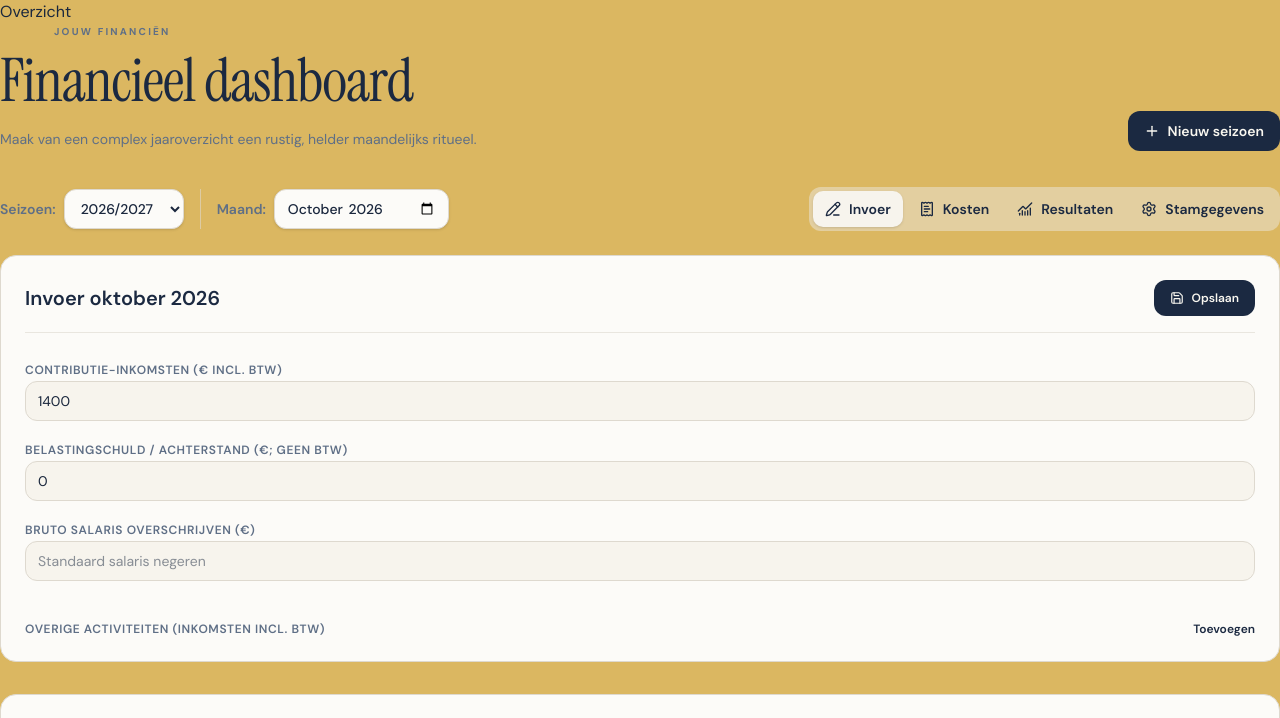
Test: bescherming van niet-opgeslagen financiële maandinvoer › laat bij wisselen naar een leeg seizoen geen maand of resultaatcijfers van het vorige seizoen staan
Step 1. Select "2025/2026" in the dropdown with test id "select-season" → (124, 209), box x1=64 y1=189 x2=184 y2=229
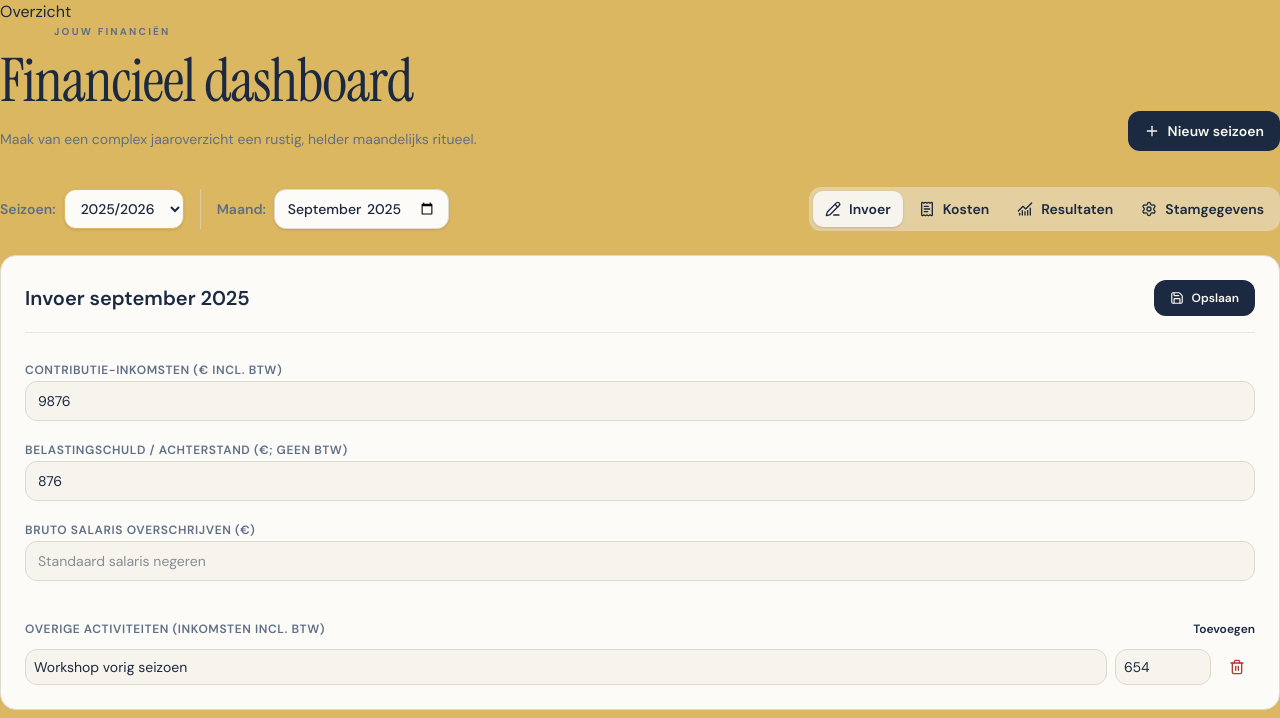
Step 2. Click the button with test id "tab-results" → (1065, 209), box x1=1005 y1=191 x2=1125 y2=227
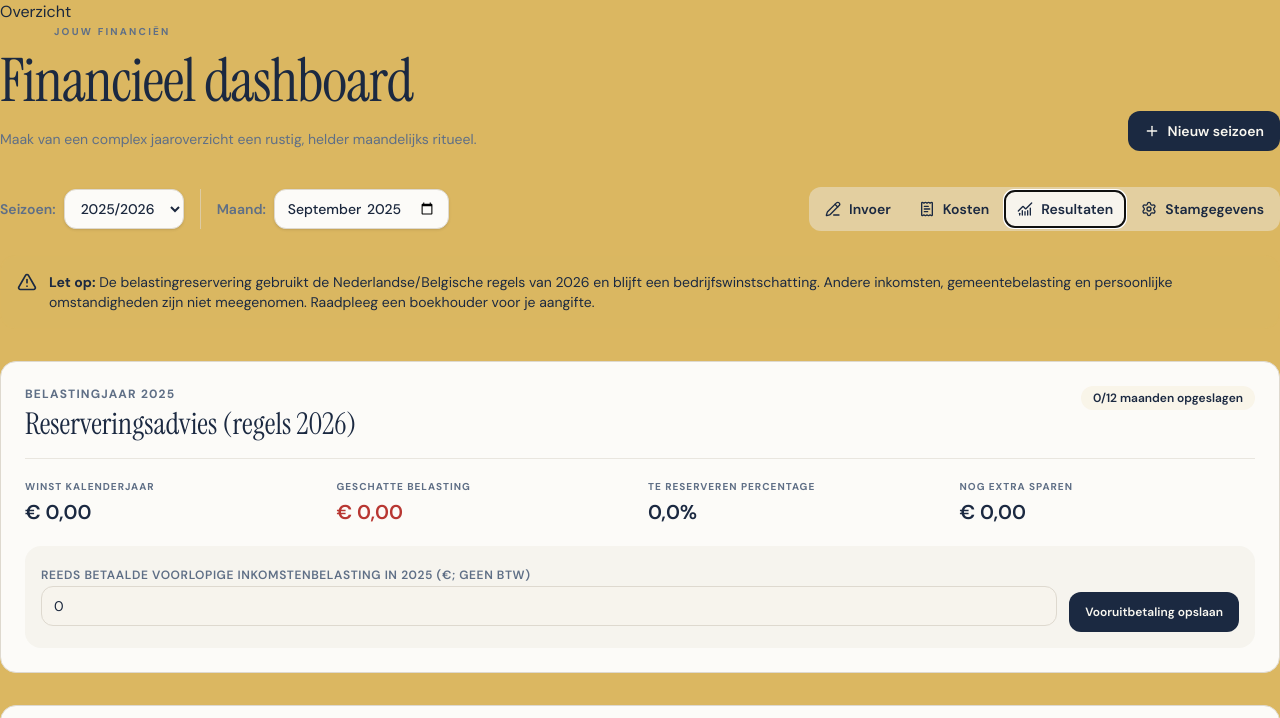
Step 3. Select "2026/2027" in the dropdown with test id "select-season" → (124, 209), box x1=64 y1=189 x2=184 y2=229
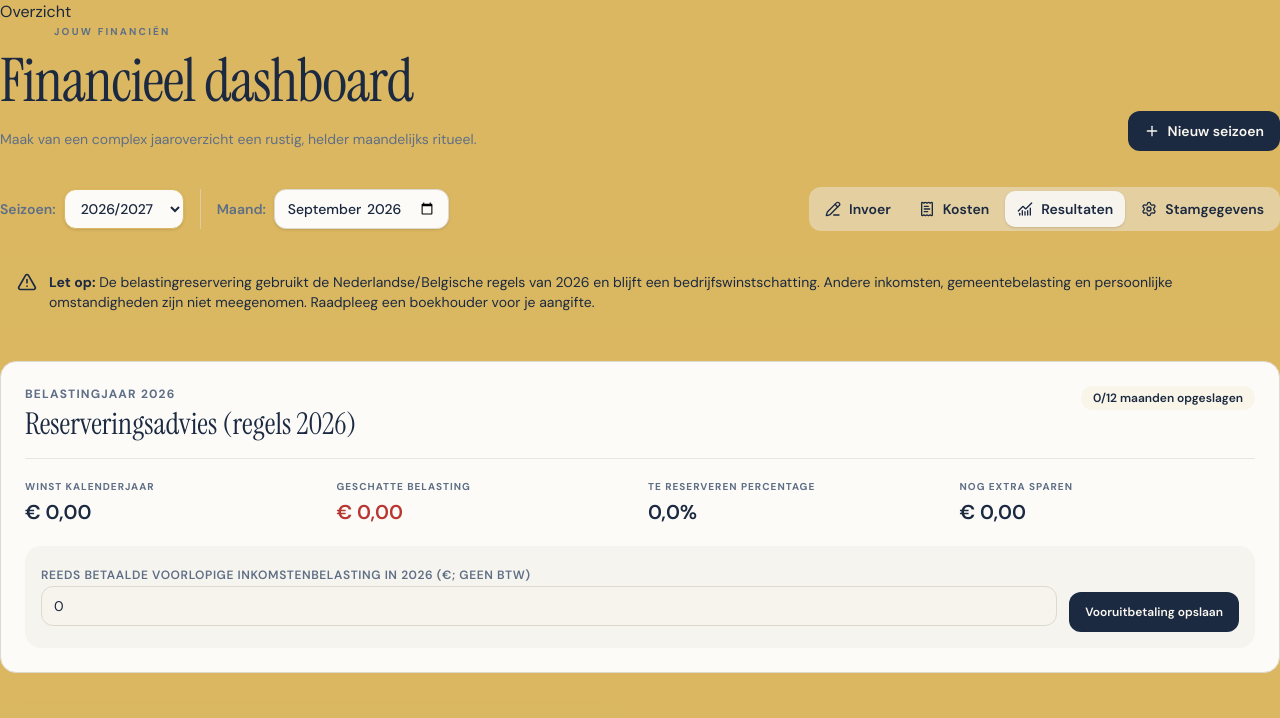
Result: the field with test id "input-month" holds "2026-09" at x1=274 y1=189 x2=449 y2=229
